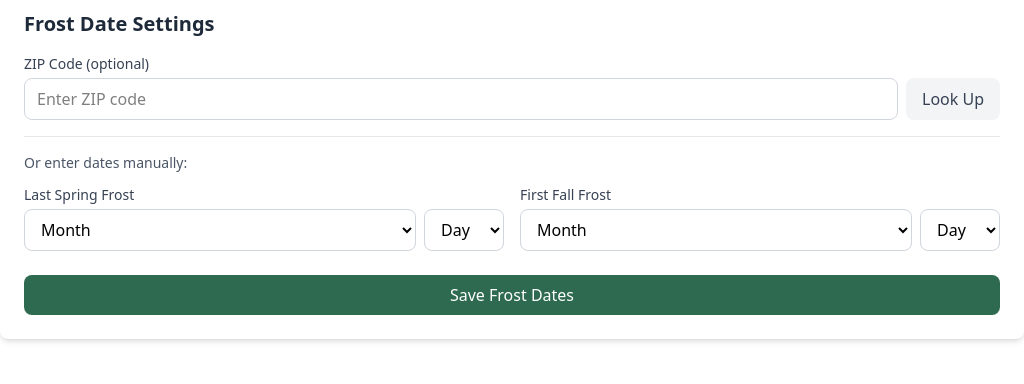
Scenario: FrostDateForm › ZIP code lookup › should show message when ZIP code is too short
Type "12" into the field labelled "ZIP Code (optional)" at (461, 99), box [24, 78, 898, 120]
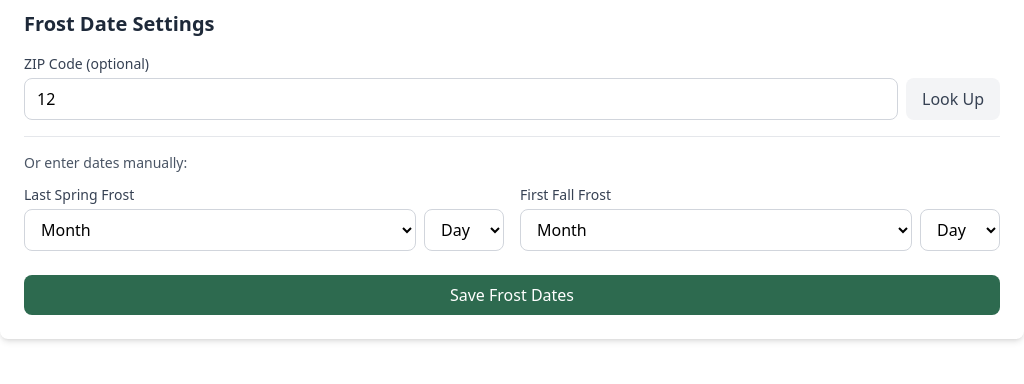
Click the button "Look Up" at (953, 99), box [906, 78, 1000, 120]
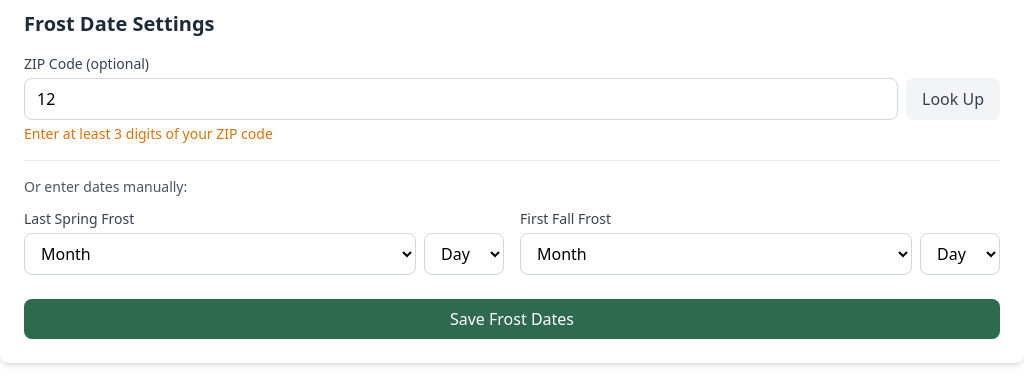
Expected: the text "Enter at least 3 digits of your ZIP code" is shown, [24, 124, 273, 143]
